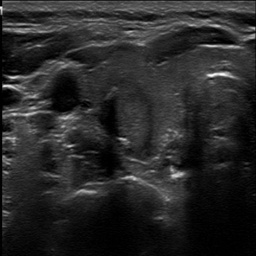mass: (100, 81, 154, 149)
